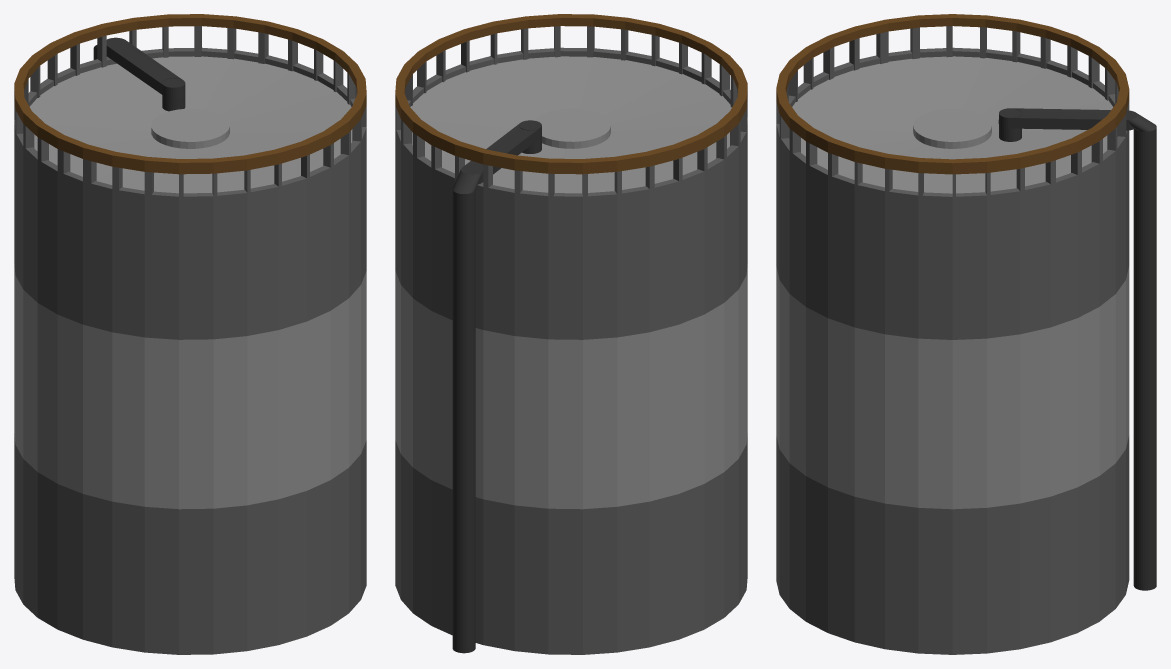
File: Building_PortBarell.fbx
The picture shows the model from 3 angles, left to right: view 1: azimuth 30°, elevation 25°; view 2: azimuth 150°, elevation 25°; view 3: azimuth 270°, elevation 25°; orthographic projection.
Parts seen in each view (by area): view 1: Cylinder; view 2: Cylinder; view 3: Cylinder.
Boxes of the visible parts, x1,y1,x2,y2 form: Cylinder: [14, 14, 366, 654]; Cylinder: [395, 14, 747, 654]; Cylinder: [776, 14, 1156, 654].
Bounding box in the file's own units: 200 × 307 × 216.
